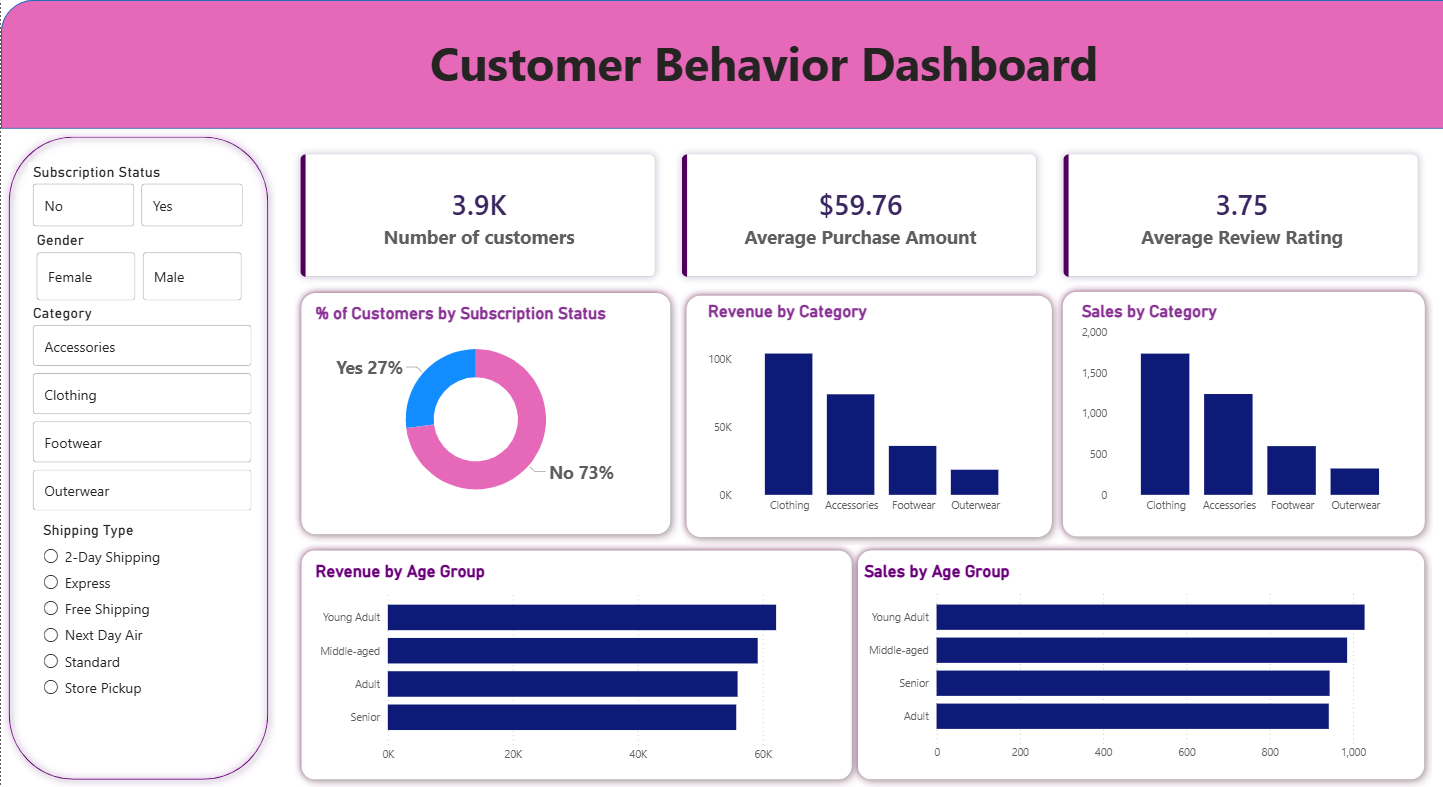

Layout of this report page (visuals, bound fields, positions):
{"tool":"powerbi","page":{"name":"Page 1","canvas":[1650,900],"ordinal":0},"visuals":[{"type":"cardVisual","fields":{"Data":["public customer.Number of customers","public customer.Average Purchase Amount","public customer.Average Review Rating"]},"box":[314,148,1336,196],"z":0},{"type":"shape","box":[0,0,1782.9,147.1],"z":1000},{"type":"textbox","box":[167.1,30,1410,117.1],"z":2000},{"type":"shape","box":[334,326,440,294],"z":3000},{"type":"donutChart","title":"% of Customers by Subscription Status","fields":{"Category":["public customer.subscription_status"],"Y":["CountNonNull(public customer.customer_id)"]},"box":[354.3,347.1,377.1,242.9],"z":4000},{"type":"shape","box":[774.3,328.6,435.7,294.3],"z":5000},{"type":"shape","box":[1204,324,432,298],"z":6000},{"type":"clusteredColumnChart","title":"Revenue by Category","fields":{"Y":["Sum(public customer.purchase_amount)"],"Category":["public customer.category"]},"box":[802.9,344.3,372.9,251.4],"z":7000},{"type":"clusteredColumnChart","title":"Sales by Category","fields":{"Y":["CountNonNull(public customer.customer_id)"],"Category":["public customer.category"]},"box":[1230,344.3,381.4,251.4],"z":8000},{"type":"shape","box":[0,147.1,314.3,752.9],"z":9000},{"type":"advancedSlicerVisual","fields":{"Values":["public customer.subscription_status"]},"box":[31.4,185.7,250,78.6],"z":10000},{"type":"advancedSlicerVisual","fields":{"Values":["public customer.gender"]},"box":[35.7,264.3,245.7,84.3],"z":11000},{"type":"advancedSlicerVisual","fields":{"Values":["public customer.category"]},"box":[31.4,347.1,260,242.9],"z":12000},{"type":"listSlicer","fields":{"Values":["public customer.shipping_type"]},"box":[42.9,595.7,238.6,228.6],"z":13000},{"type":"shape","box":[334.3,620,647.1,280],"z":14000},{"type":"clusteredBarChart","title":"Revenue by Age Group","fields":{"Y":["Sum(public customer.purchase_amount)"],"Category":["public customer.age_group"]},"box":[354.3,641.4,602.9,238.6],"z":15000},{"type":"shape","box":[970,620,665.7,280],"z":16000},{"type":"clusteredBarChart","title":"Sales by Age Group","fields":{"Y":["CountNonNull(public customer.customer_id)"],"Category":["public customer.age_group"]},"box":[981.4,641.4,631.4,237.1],"z":17000}]}

Visuals, with their boxes in screenshot pixels (x1, y1, x2, y2), scaled from the page's 1650x900 canvas onto the 1443x787 screenshot:
cardVisual - public customer.Number of customers x public customer.Average Purchase Amount: locate(275, 129, 1442, 301)
shape: locate(0, 0, 1442, 129)
textbox: locate(146, 26, 1379, 129)
shape: locate(292, 285, 677, 542)
"% of Customers by Subscription Status" donutChart: locate(310, 304, 640, 516)
shape: locate(677, 287, 1058, 545)
shape: locate(1053, 283, 1431, 544)
"Revenue by Category" clusteredColumnChart: locate(702, 301, 1028, 521)
"Sales by Category" clusteredColumnChart: locate(1076, 301, 1409, 521)
shape: locate(0, 129, 275, 786)
advancedSlicerVisual - public customer.subscription_status: locate(27, 162, 246, 231)
advancedSlicerVisual - public customer.gender: locate(31, 231, 246, 305)
advancedSlicerVisual - public customer.category: locate(27, 304, 255, 516)
listSlicer - public customer.shipping_type: locate(38, 521, 246, 721)
shape: locate(292, 542, 858, 786)
"Revenue by Age Group" clusteredBarChart: locate(310, 561, 837, 770)
shape: locate(848, 542, 1430, 786)
"Sales by Age Group" clusteredBarChart: locate(858, 561, 1410, 768)
